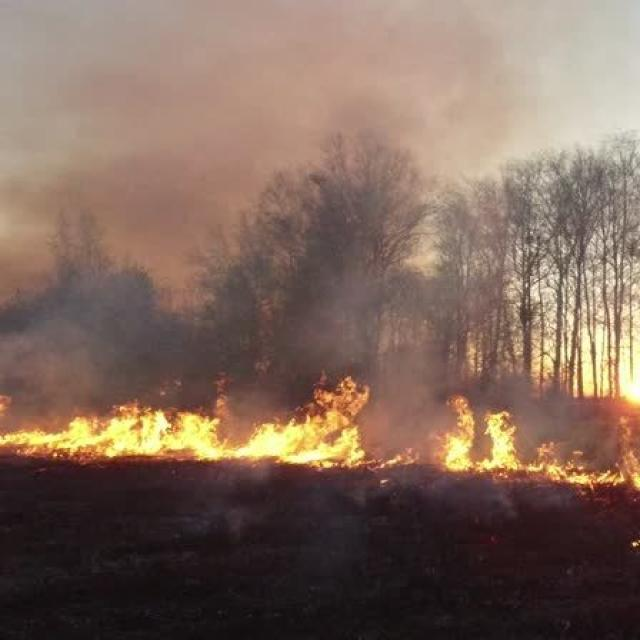Fire: (0, 394, 630, 514)
Smoke: (18, 26, 526, 386)
